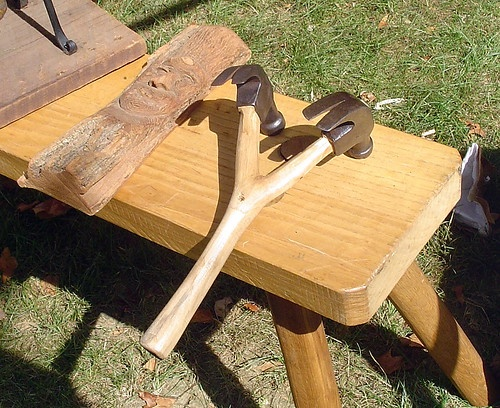hammer: (279, 82, 390, 192), (200, 55, 288, 179)
